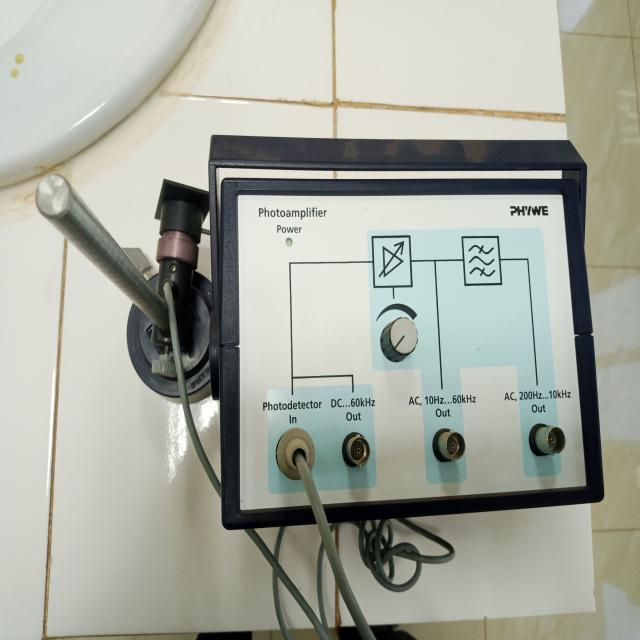Photo Amplifier Power Supply: (34, 122, 621, 539)
